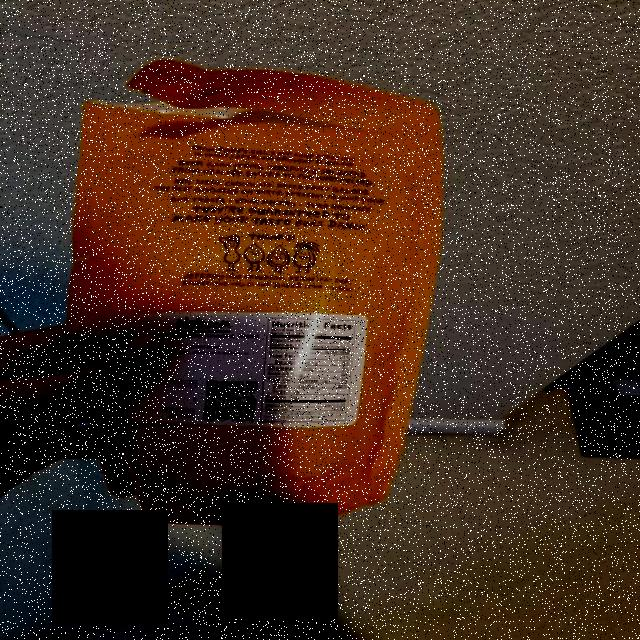QR_CODE: (196, 374, 262, 428)
